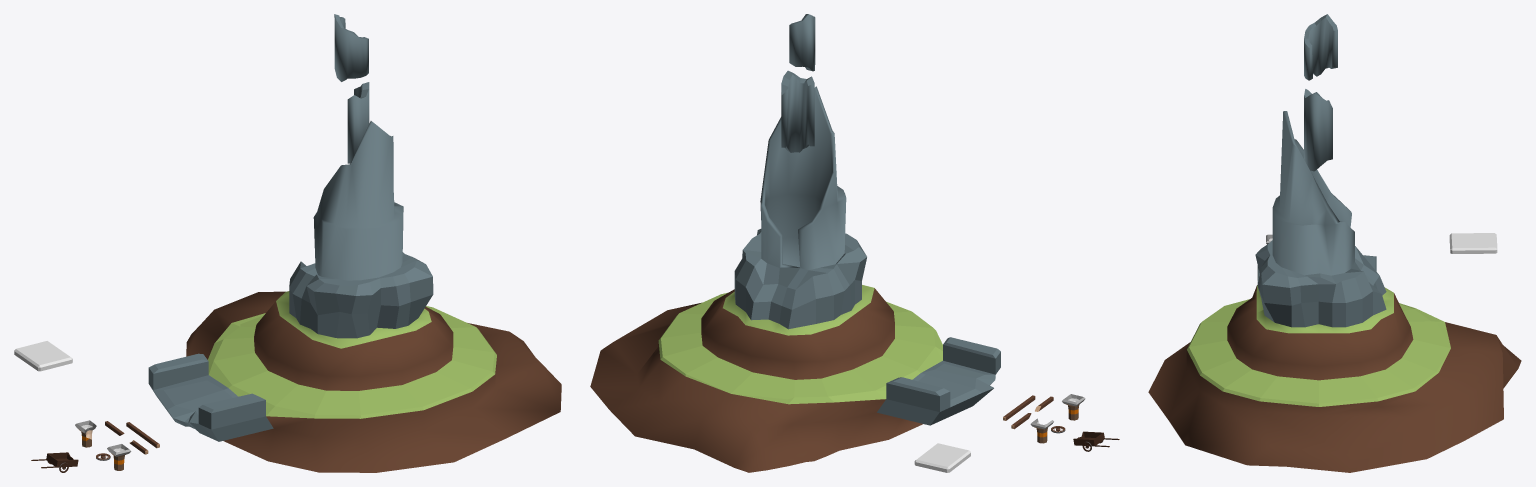
The model's file is TowerSet.fbx.
3 renders of one model, left to right at view 1: azimuth 30°, elevation 25°; view 2: azimuth 150°, elevation 25°; view 3: azimuth 270°, elevation 25°, orthographic. The views are drawn at different scales.
Visible parts, largest first — view 1: Tower, TowerFloaty2, TowerFloaty1, FloorTile_Tower; view 2: Tower, TowerFloaty1, TowerFloaty2, FloorTile_Tower; view 3: Tower, TowerFloaty1, TowerFloaty2, FloorTile_Tower.
Boxes of the visible parts, <box> form: Tower: <box>148,121,561,472</box>; TowerFloaty2: <box>334,14,368,81</box>; TowerFloaty1: <box>347,82,369,163</box>; FloorTile_Tower: <box>14,341,72,371</box>; Tower: <box>590,86,1000,472</box>; TowerFloaty1: <box>781,70,814,152</box>; TowerFloaty2: <box>789,14,815,71</box>; FloorTile_Tower: <box>914,443,970,472</box>; Tower: <box>1148,111,1521,472</box>; TowerFloaty1: <box>1304,89,1332,171</box>; TowerFloaty2: <box>1304,14,1337,80</box>; FloorTile_Tower: <box>1449,233,1497,253</box>.
Bounding box in the file's own units: 9313 × 6769 × 6251.
